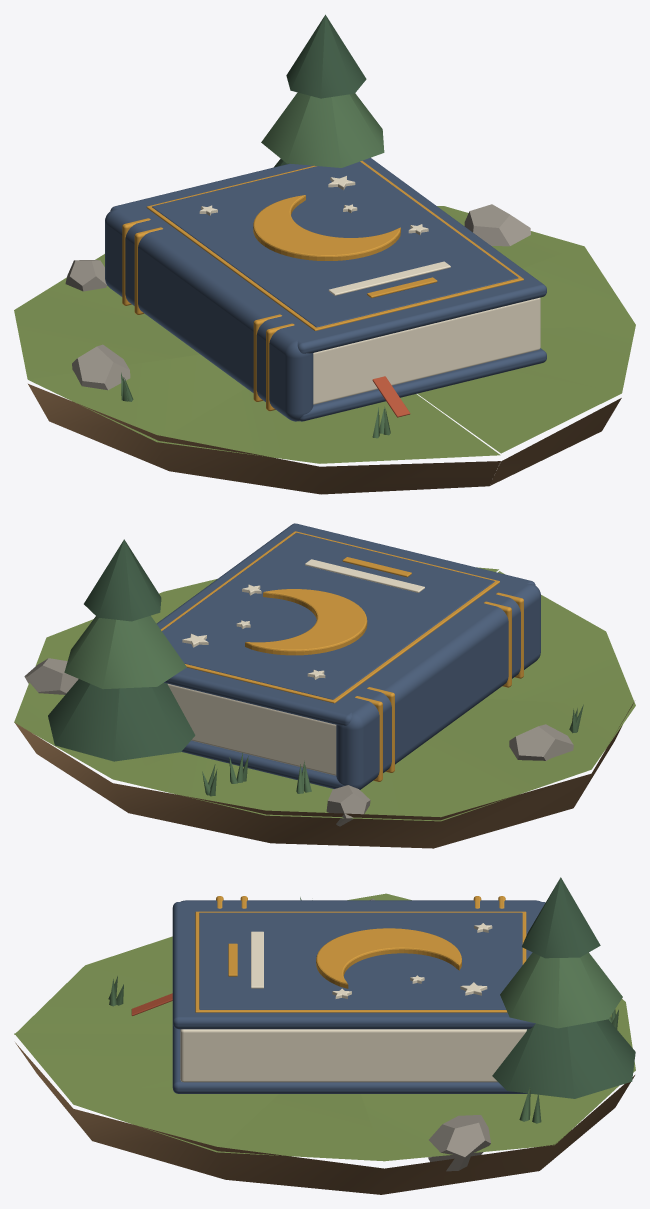
Rendered from nella.glb.
3 views of the same model, one above another, from view 1: azimuth 30°, elevation 25°; view 2: azimuth 150°, elevation 25°; view 3: azimuth 270°, elevation 25° (orthographic).
Parts seen in each view (by area): view 1: Moon Book (×2); view 2: Moon Book (×2); view 3: Moon Book (×2).
Boxes of the visible parts, x1=… form: Moon Book (×2): x1=14, y1=14, x2=635, y2=494; Moon Book (×2): x1=14, y1=523, x2=635, y2=848; Moon Book (×2): x1=14, y1=877, x2=635, y2=1194.
Bounding box in the file's own units: 3.35 × 1.44 × 3.31.
Materials: 3 (3 with a texture image).
